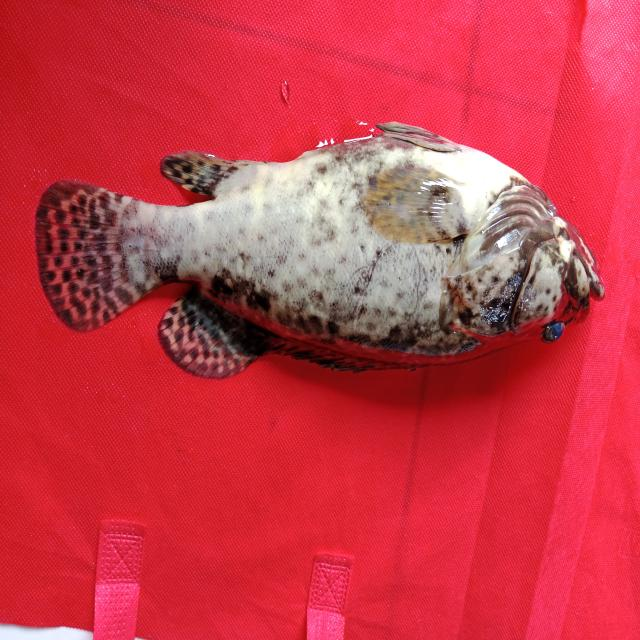ikan: (24, 99, 618, 407)
